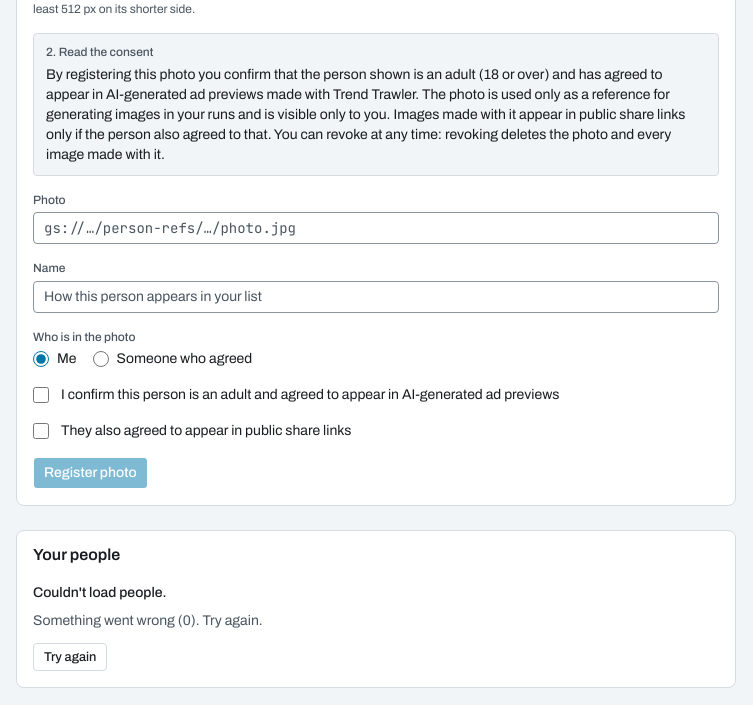
Test: /people load states › offers a retry after a failure, which loads the data
(page scrolled)
Expected: the message shows "Couldn't load people", [33, 585, 166, 600]
Click the button "Try again" at (70, 657), box [33, 643, 107, 671]
(page scrolled)
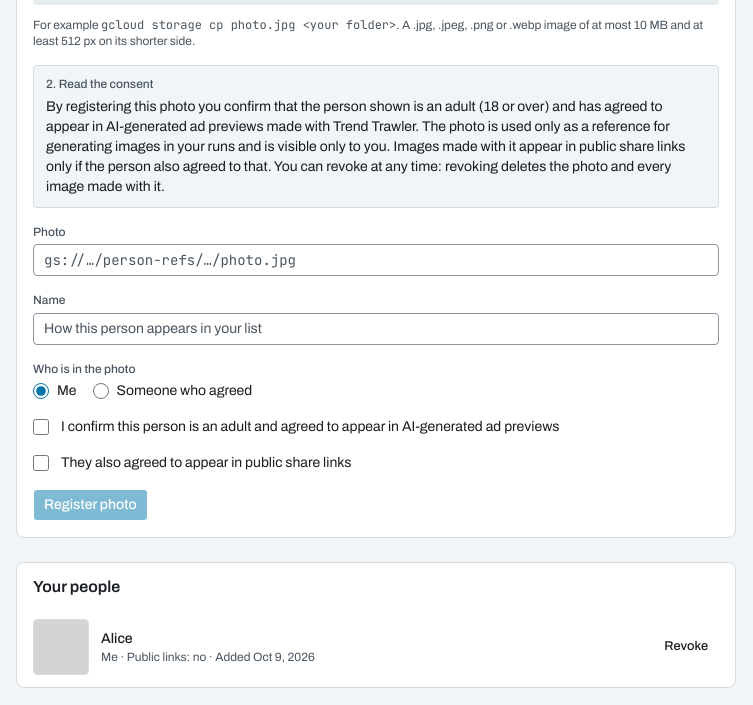
Now the text "Alice" is shown, box [101, 631, 133, 646]
Now the message "Couldn't load people. Something went wrong (0). Try again. Try again" is gone
